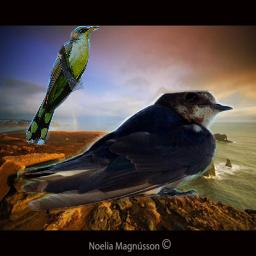Cuckoo: (26, 26, 99, 145)
Swallow: (17, 90, 234, 211)
